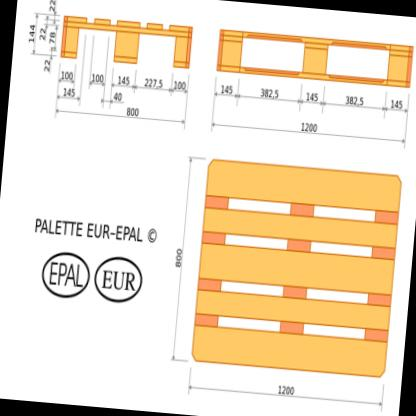BoxFace: (190, 153, 403, 383), (214, 24, 413, 88), (59, 11, 193, 76)
